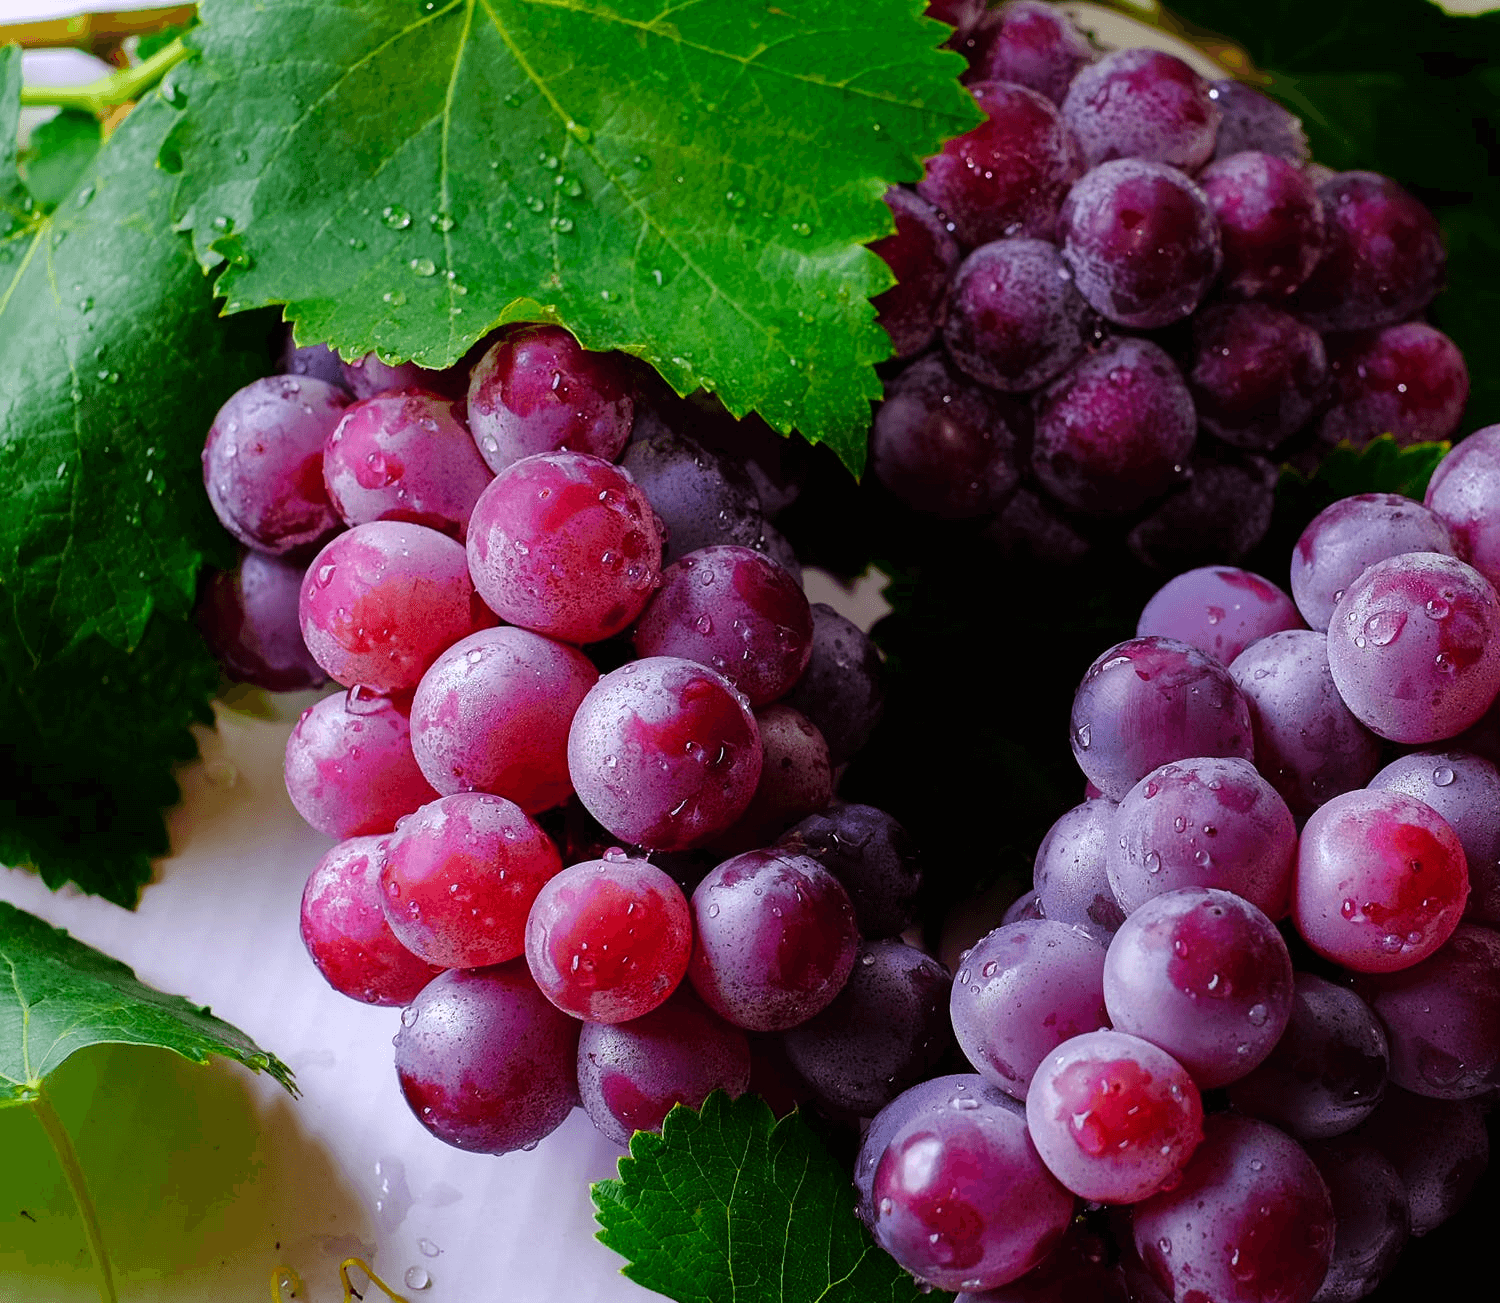Red Grapes: (187, 333, 952, 1116), (897, 472, 1492, 1285)
